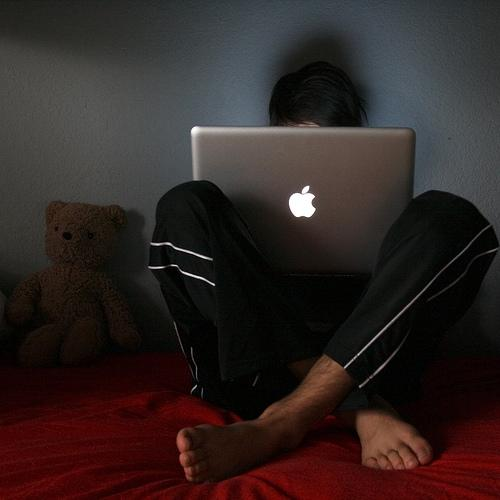person: (150, 61, 498, 485)
